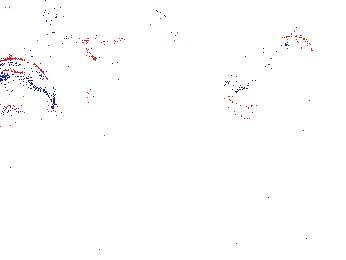moon jellyfish: (221, 34, 317, 122), (84, 6, 179, 56), (1, 57, 55, 115)
